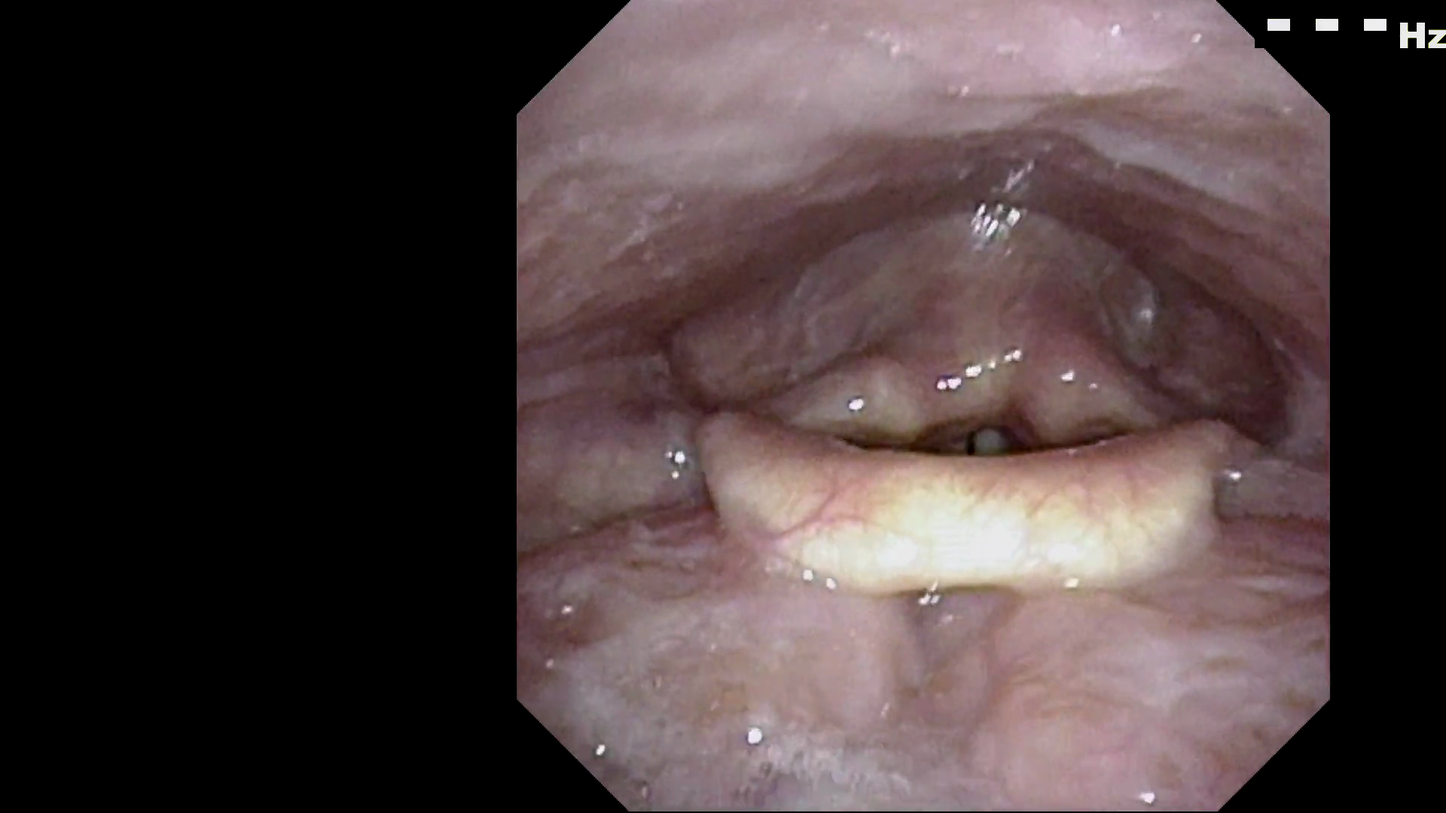epiglottis: (688, 361, 1261, 615)
trachea: (918, 359, 1050, 498)
